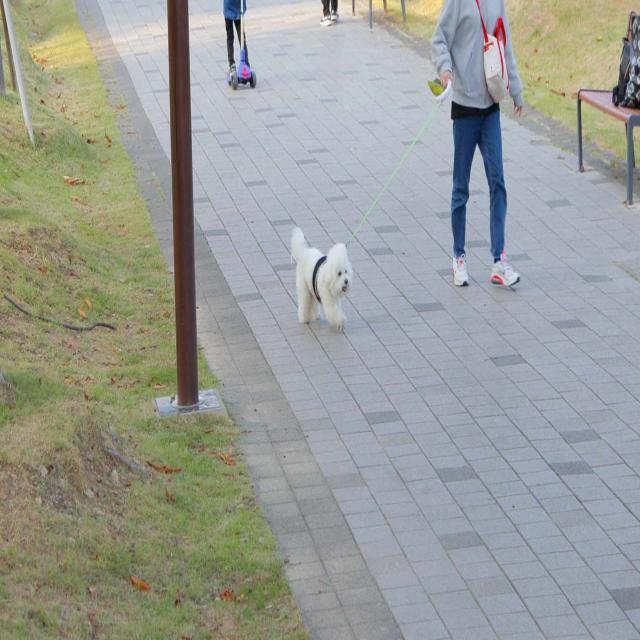Leashed_Dog: (291, 71, 469, 328)
